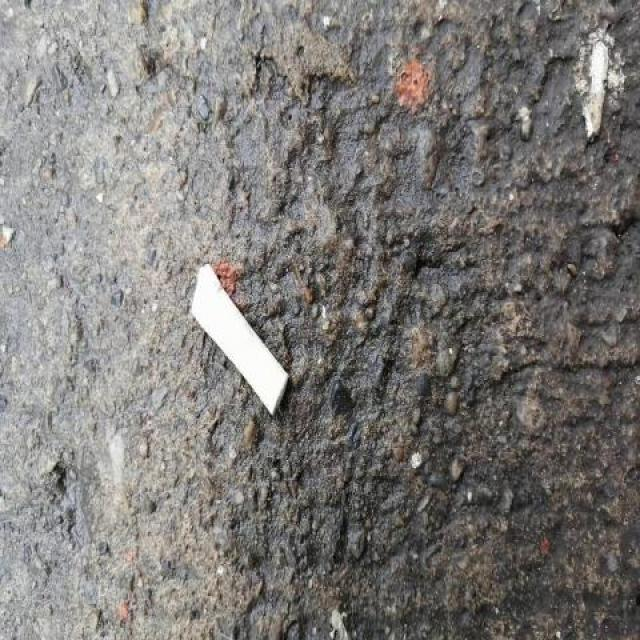non-organic waste: (186, 260, 293, 420)
